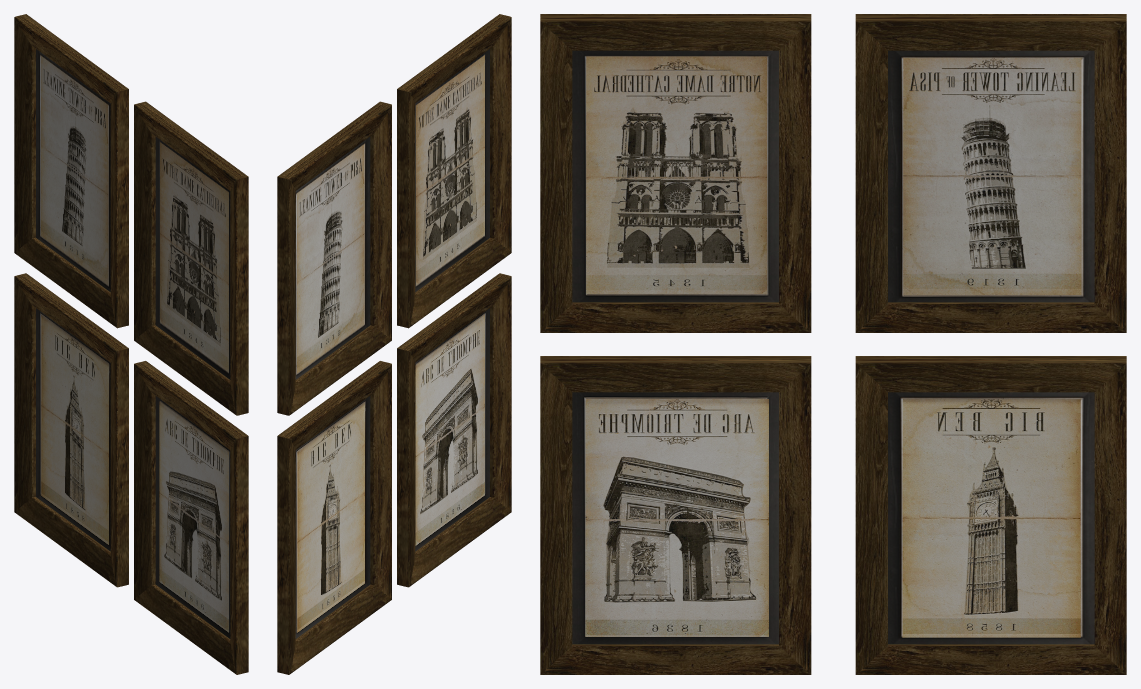
File: Pictures 2.FBX
3 renders of one model, left to right at view 1: azimuth 30°, elevation 25°; view 2: azimuth 150°, elevation 25°; view 3: azimuth 270°, elevation 25°, orthographic. The views are drawn at different scales.
Visible parts, largest first — view 1: Picture 2, Picture 4, Picture 3, Picture 1; view 2: Picture 1, Picture 4, Picture 3, Picture 2; view 3: Picture 1, Picture 2, Picture 4, Picture 3.
Boxes of the visible parts, x1=… form: Picture 2: x1=134, y1=101, x2=248, y2=415; Picture 4: x1=134, y1=361, x2=248, y2=674; Picture 3: x1=14, y1=273, x2=128, y2=587; Picture 1: x1=14, y1=14, x2=128, y2=328; Picture 1: x1=277, y1=101, x2=391, y2=415; Picture 4: x1=397, y1=273, x2=511, y2=587; Picture 3: x1=277, y1=361, x2=391, y2=674; Picture 2: x1=397, y1=14, x2=511, y2=328; Picture 1: x1=855, y1=14, x2=1126, y2=332; Picture 2: x1=540, y1=14, x2=811, y2=332; Picture 4: x1=540, y1=356, x2=811, y2=674; Picture 3: x1=855, y1=356, x2=1126, y2=674.
Bounding box in the file's own units: 15.6 × 486 × 598.
2 materials, 2 textured.
